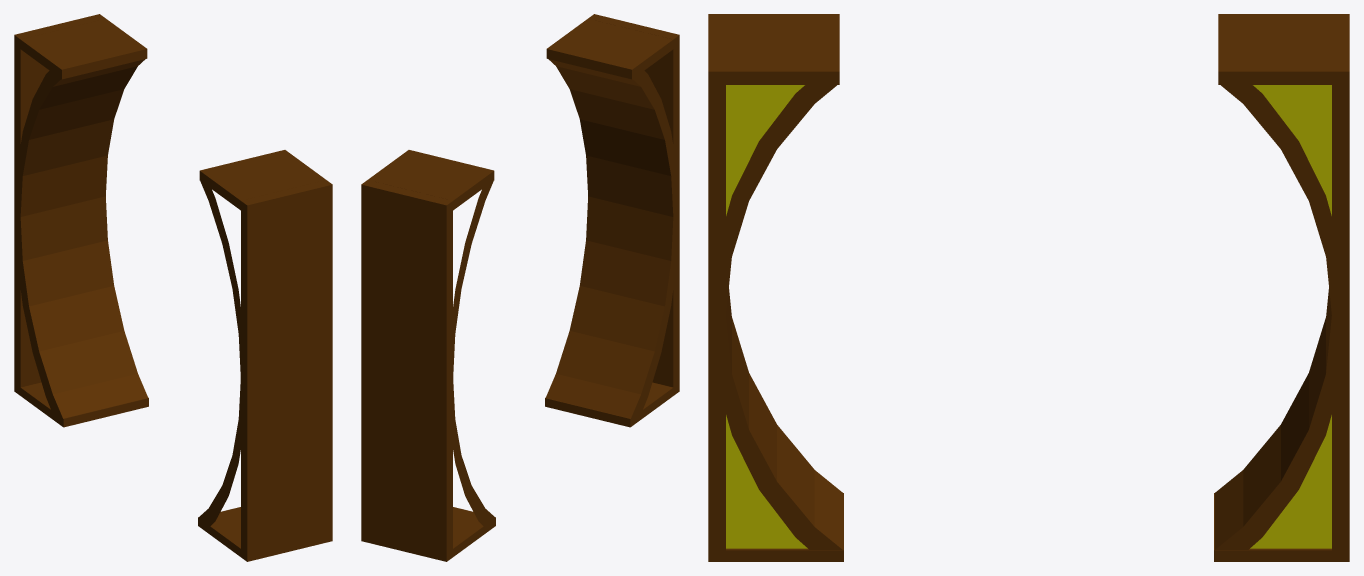
The model's file is Circle_Wall_Next_To_Main_Entrance_Cil_Balcony_DoorFrame.fbx.
3 views of the same model, side by side, from view 1: azimuth 30°, elevation 25°; view 2: azimuth 150°, elevation 25°; view 3: azimuth 270°, elevation 25° (orthographic). The views are drawn at different scales.
Parts seen in each view (by area): view 1: Cylinder.001, Cylinder; view 2: Cylinder, Cylinder.001; view 3: Cylinder, Cylinder.001, Plane, Plane.001.
Boxes of the visible parts, x1,y1,x2,y2 form: Cylinder.001: (14, 14, 148, 427); Cylinder: (198, 150, 332, 561); Cylinder: (545, 14, 679, 427); Cylinder.001: (361, 150, 495, 561); Cylinder: (708, 14, 843, 561); Cylinder.001: (1214, 14, 1349, 561); Plane: (726, 85, 807, 548); Plane.001: (1250, 85, 1331, 548).
Bounding box in the file's own units: 132 × 525 × 622.
